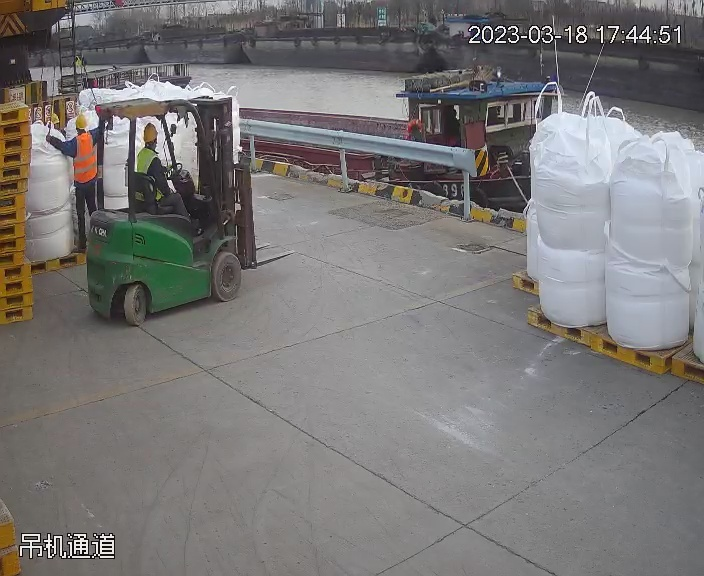head: (132, 121, 164, 172), (65, 111, 96, 155)
helmet: (141, 122, 158, 142), (73, 113, 89, 129)
people: (129, 120, 209, 238), (50, 110, 101, 231)
